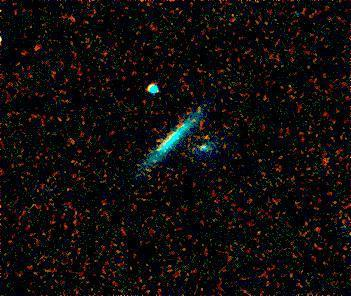star: (192, 122, 222, 152)
